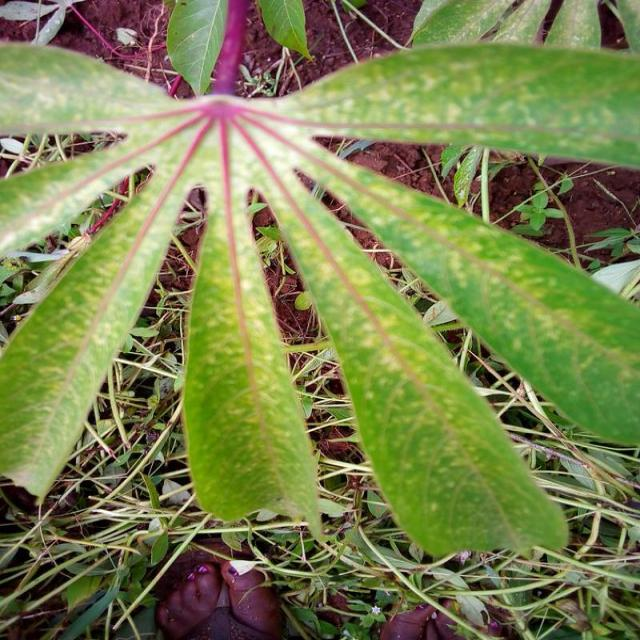cassava leaf: (1, 32, 640, 559), (302, 148, 640, 447), (182, 199, 324, 543)
